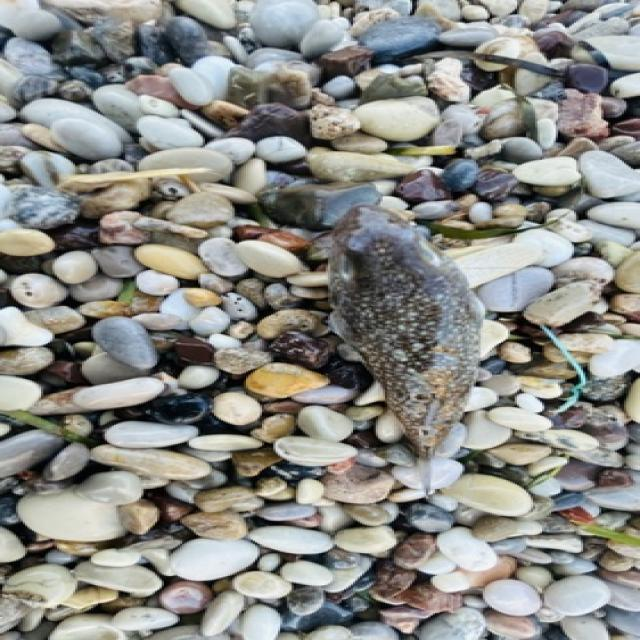Balik: (331, 205, 482, 491)
